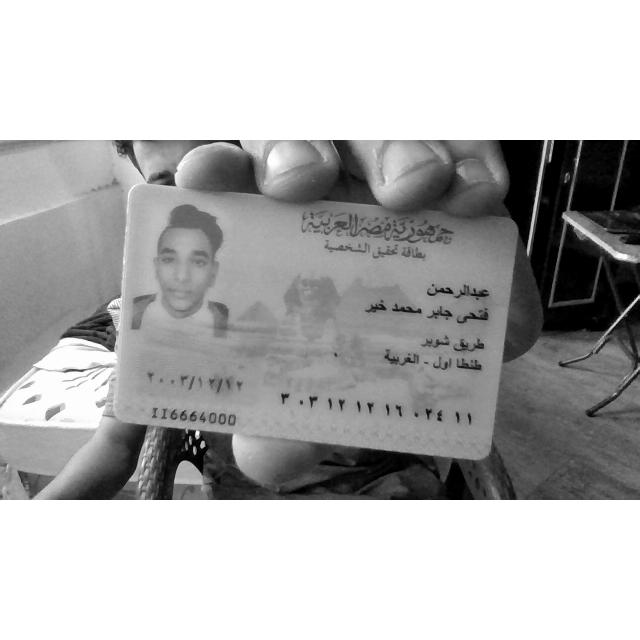front: (114, 184, 518, 460)
